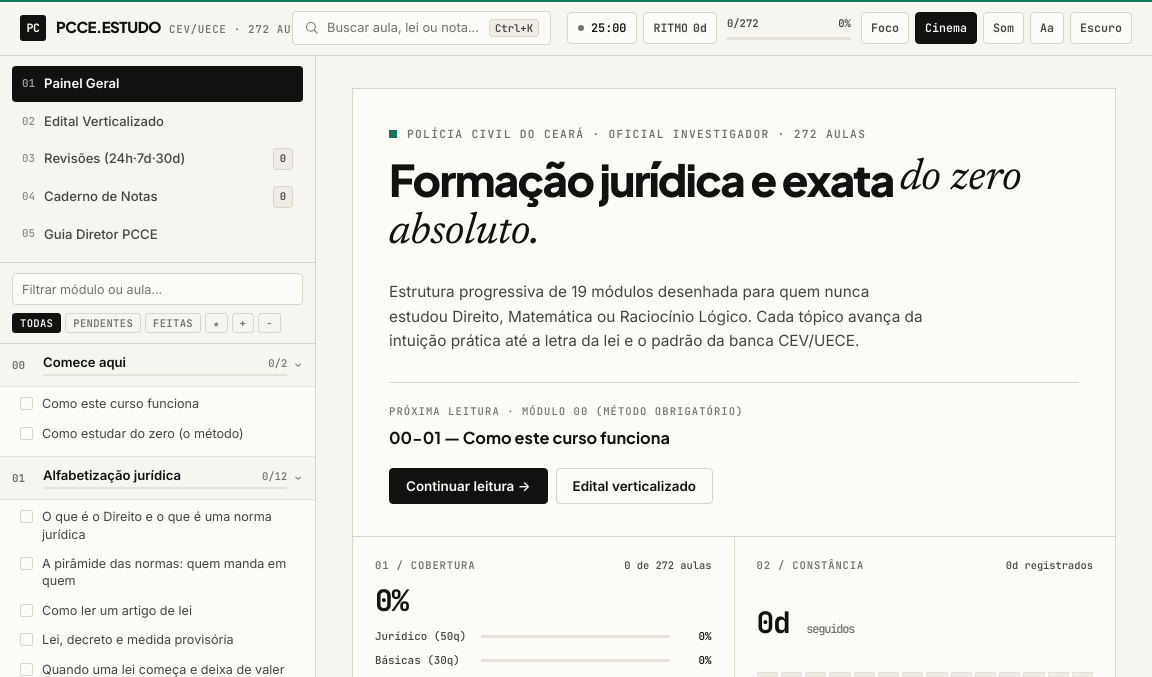
it: App › abre a busca global com Ctrl+K e navega pelo teclado
Type keys "{Control>}k{/Control}"
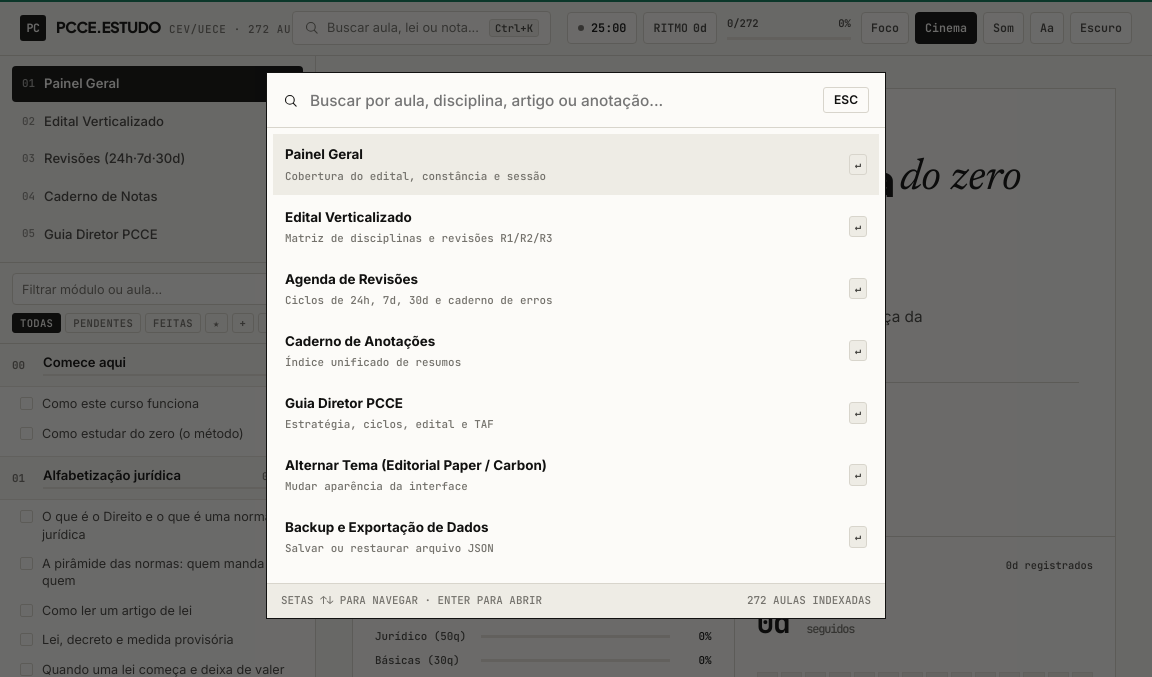
Type "edital verticalizado" into the search field with placeholder "Buscar por aula, disciplina, artigo ou anotação..." at (561, 100), box [308,90,813,111]
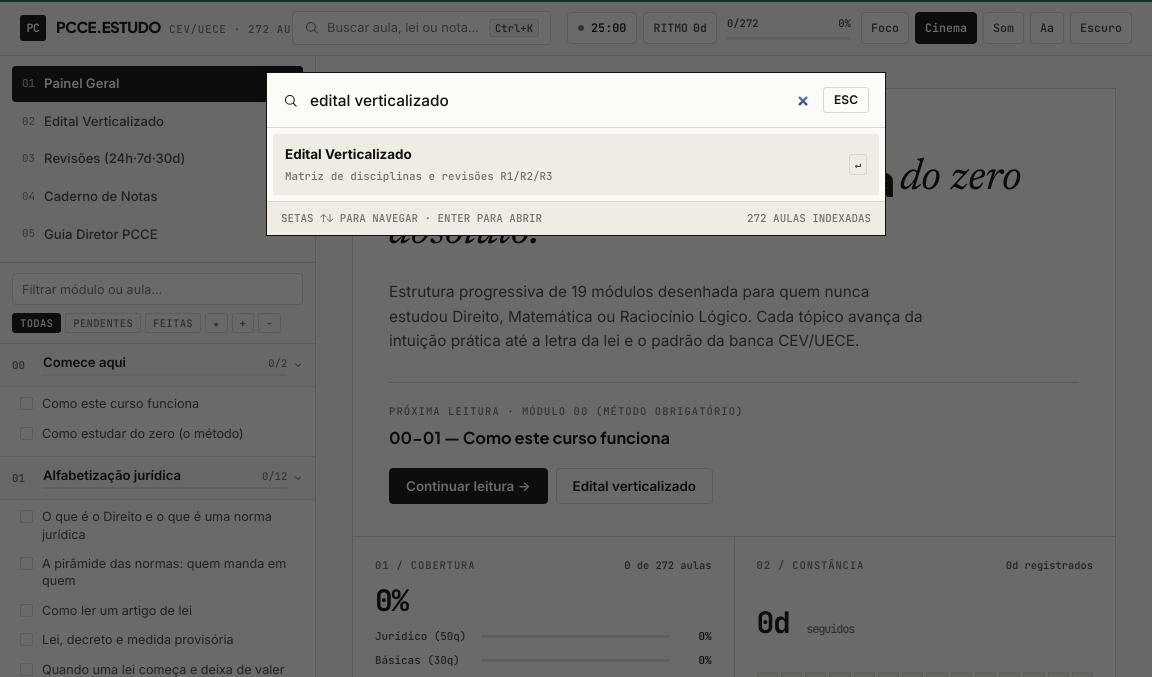
Press Enter
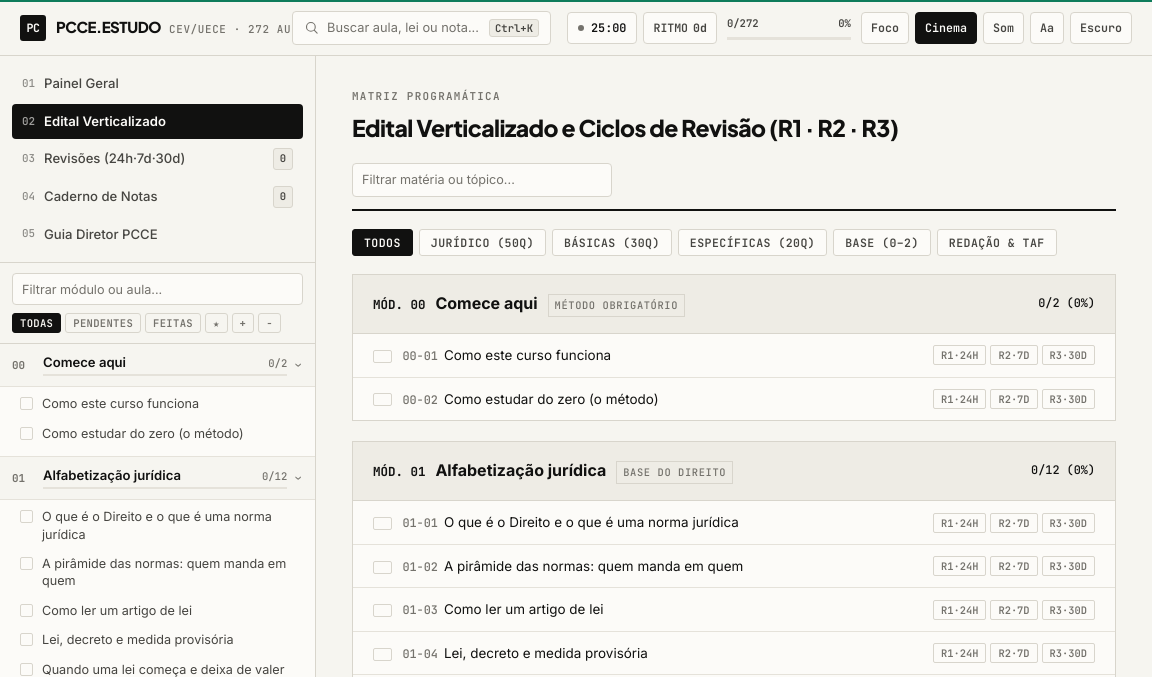
Check: the heading "Edital Verticalizado e Ciclos de Revisão (R1 · R2 · R3)" is shown, box [352,109,898,147]
